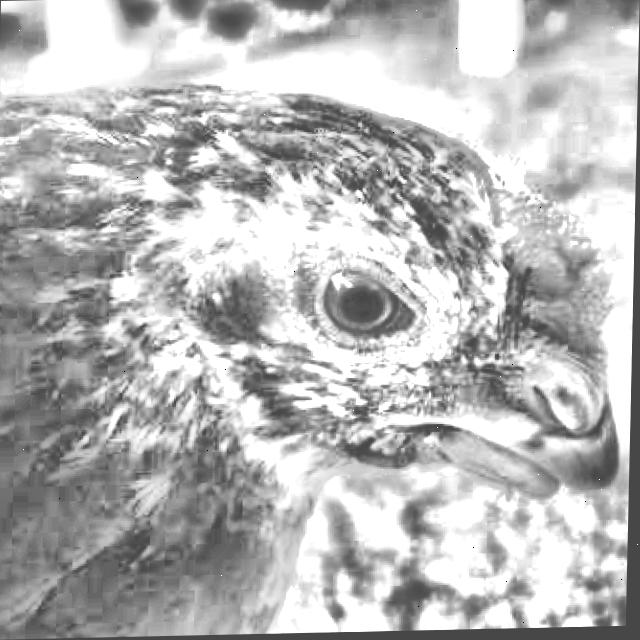Healthy: (281, 237, 450, 382)
